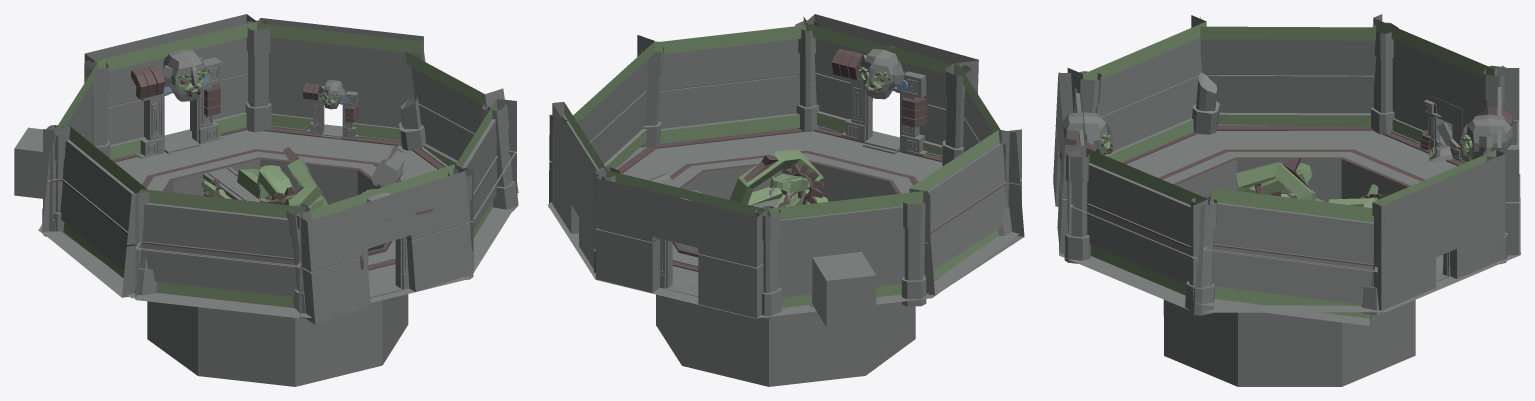
File: salle_torche_separate.fbx
3 renders of one model, left to right at view 1: azimuth 30°, elevation 25°; view 2: azimuth 150°, elevation 25°; view 3: azimuth 270°, elevation 25°, orthographic. The views are drawn at different scales.
Visible parts, largest first — view 1: mur_salle_torche.020, mur_salle_torche.007, mur_salle_torche.003, mur_salle_torche.004, mur_salle_torche.006, salle_torche.006, salle_torche.007, mur_salle_torche.008, salle_torche, mur_salle_torche.002, mur_salle_torche.001, salle_torche.003 (+17 smaller); view 2: mur_salle_torche.004, mur_salle_torche.005, mur_salle_torche.001, mur_salle_torche.006, mur_salle_torche.020, salle_torche.003, salle_torche.004, mur_salle_torche.009, salle_torche.007, mur_salle_torche.002, mur_salle_torche.003, salle_torche.008 (+12 smaller); view 3: mur_salle_torche.002, mur_salle_torche.006, mur_salle_torche.003, mur_salle_torche.001, mur_salle_torche.007, mur_salle_torche.005, salle_torche.009, salle_torche.005, salle_torche, salle_torche.004, salle_torche.008, salle_torche.006 (+13 smaller).
Part boxes in pixels (<box>): mur_salle_torche.020: <box>296,164,473,324</box>; mur_salle_torche.007: <box>135,189,304,318</box>; mur_salle_torche.003: <box>257,18,423,140</box>; mur_salle_torche.004: <box>84,14,257,159</box>; mur_salle_torche.006: <box>42,126,149,297</box>; salle_torche.006: <box>132,292,309,386</box>; salle_torche.007: <box>295,248,469,386</box>; mur_salle_torche.008: <box>131,49,223,158</box>; salle_torche: <box>250,124,401,204</box>; mur_salle_torche.002: <box>405,52,518,193</box>; mur_salle_torche.001: <box>453,99,516,272</box>; salle_torche.003: <box>112,127,260,195</box>; mur_salle_torche.004: <box>596,170,767,318</box>; mur_salle_torche.005: <box>767,190,930,327</box>; mur_salle_torche.001: <box>641,16,806,143</box>; mur_salle_torche.006: <box>909,130,1024,295</box>; mur_salle_torche.020: <box>805,14,978,155</box>; salle_torche.003: <box>596,249,768,386</box>; salle_torche.004: <box>755,294,931,386</box>; mur_salle_torche.009: <box>831,46,927,156</box>; salle_torche.007: <box>802,126,942,201</box>; mur_salle_torche.002: <box>548,35,654,207</box>; mur_salle_torche.003: <box>552,102,607,268</box>; salle_torche.008: <box>656,128,812,199</box>; mur_salle_torche.002: <box>1196,187,1384,325</box>; mur_salle_torche.006: <box>1200,17,1376,127</box>; mur_salle_torche.003: <box>1372,150,1505,312</box>; mur_salle_torche.001: <box>1068,148,1208,309</box>; mur_salle_torche.007: <box>1067,15,1206,162</box>; mur_salle_torche.005: <box>1373,14,1503,162</box>; salle_torche.009: <box>1204,305,1385,386</box>; salle_torche.005: <box>1209,124,1373,202</box>; salle_torche: <box>1342,254,1520,386</box>; salle_torche.004: <box>1341,131,1519,198</box>; salle_torche.008: <box>1059,254,1237,386</box>; salle_torche.006: <box>1122,132,1237,196</box>.
Bounding box in the file's own units: 6073 × 3292 × 5983.
